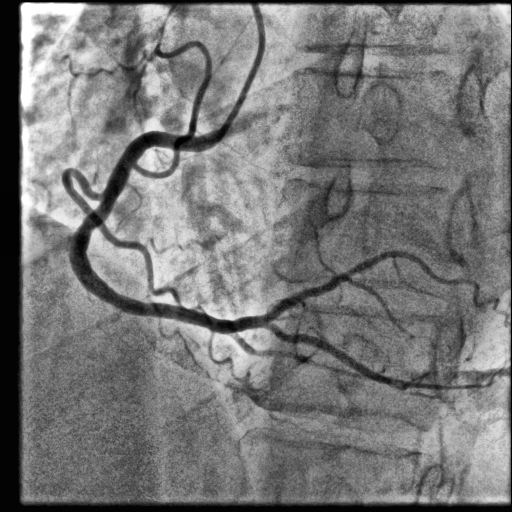pborca: (263, 250, 509, 327)
pda: (266, 323, 479, 389)
rca: (70, 130, 273, 334)
